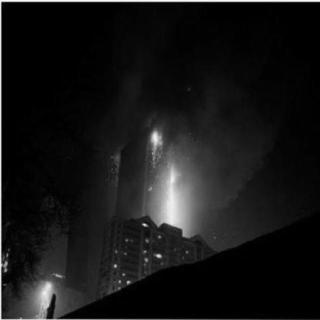Fire: (162, 154, 182, 222), (150, 118, 162, 146)
other: (36, 276, 58, 306)
